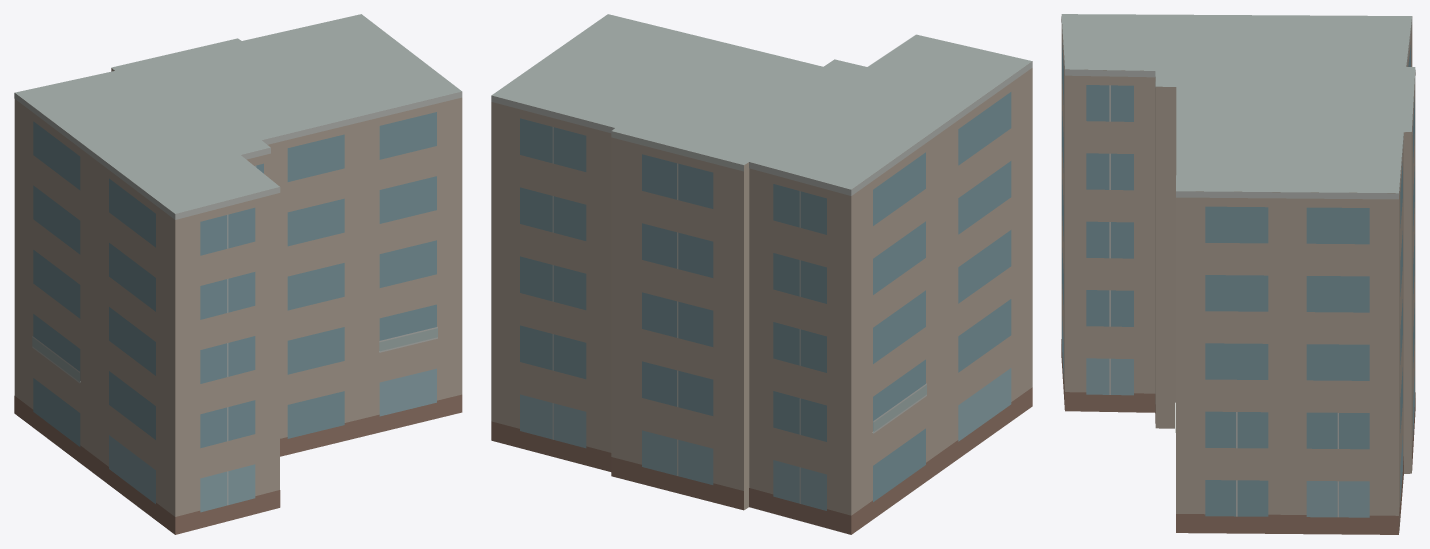
File: survey-upis-32945585.glb
The picture shows the model from 3 angles, left to right: view 1: azimuth 30°, elevation 25°; view 2: azimuth 150°, elevation 25°; view 3: azimuth 270°, elevation 25°; orthographic projection. The views are drawn at different scales.
Visible parts, largest first — view 1: survey-upis-32945585.tmp; view 2: survey-upis-32945585.tmp; view 3: survey-upis-32945585.tmp.
Boxes of the visible parts, bbox=[...] form: survey-upis-32945585.tmp: bbox=[14, 14, 462, 534]; survey-upis-32945585.tmp: bbox=[491, 14, 1032, 534]; survey-upis-32945585.tmp: bbox=[1061, 14, 1415, 534].
Bounding box in the file's own units: 14.85 × 13.2 × 12.4.
